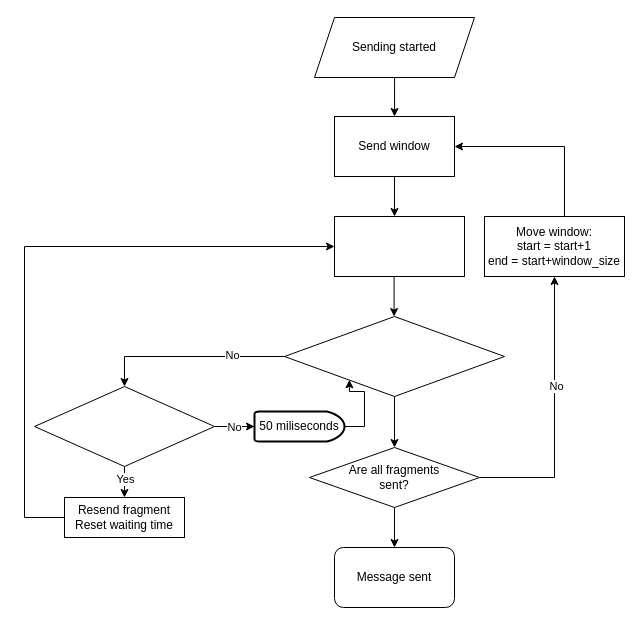
Image size: 642x625. Some labels were removed from this diagram. The shapes that lost their labels are listed below. From the top down, each one's box as (x1, y1, x2, y2) in pixels, then its label:
(334, 216, 464, 276): Start waiting for the first fragment in window to be acknowledged
(284, 316, 504, 396): Is fragment acknowledged?
(34, 386, 214, 466): Is waiting time is more than 2,5 seconds
